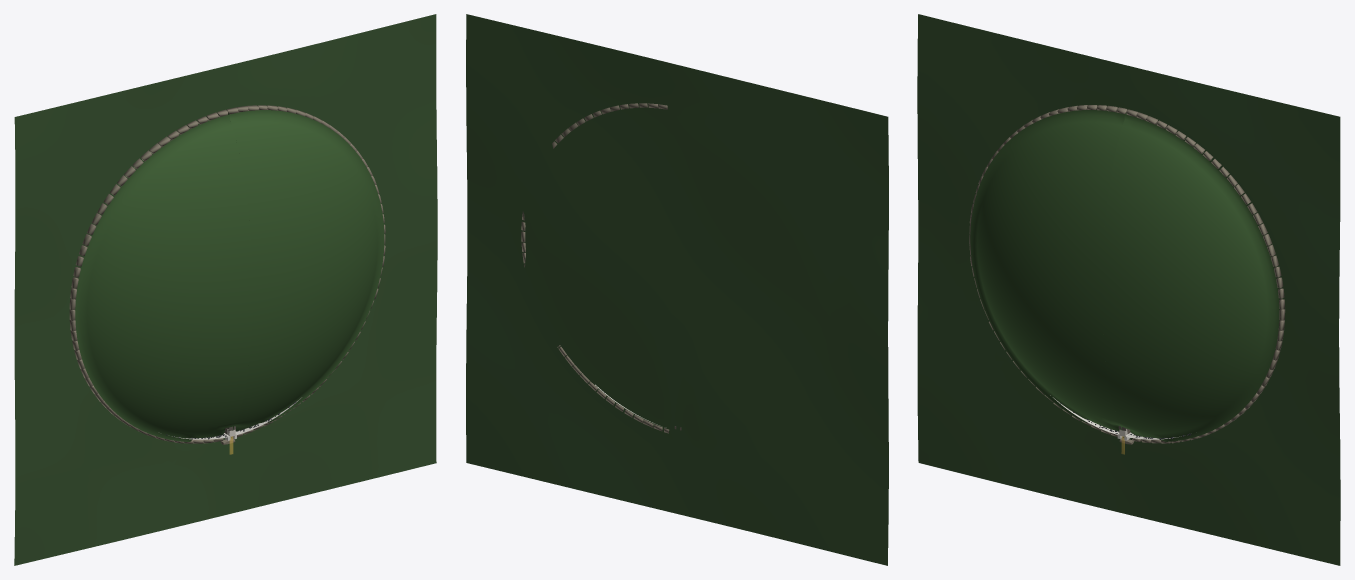
The model's file is newgrange_monument.obj.
3 renders of one model, left to right at view 1: azimuth 30°, elevation 25°; view 2: azimuth 150°, elevation 25°; view 3: azimuth 330°, elevation 25°, orthographic.
Parts seen in each view (by area): view 1: boyne_terrain, mound_west_half, mound_east_half, kerbstones; view 2: boyne_terrain, kerbstones; view 3: boyne_terrain, mound_east_half, mound_west_half, kerbstones.
Boxes of the visible parts, x1=… form: boyne_terrain: x1=14, y1=14, x2=437, y2=565; mound_west_half: x1=75, y1=113, x2=252, y2=441; mound_east_half: x1=228, y1=110, x2=384, y2=431; kerbstones: x1=69, y1=105, x2=385, y2=444; boyne_terrain: x1=466, y1=14, x2=888, y2=565; kerbstones: x1=521, y1=103, x2=669, y2=433; boyne_terrain: x1=917, y1=14, x2=1340, y2=565; mound_east_half: x1=1102, y1=114, x2=1279, y2=441; mound_west_half: x1=970, y1=110, x2=1126, y2=431; kerbstones: x1=969, y1=105, x2=1285, y2=444.
Bounding box in the file's own units: 116 × 118 × 13.12.
